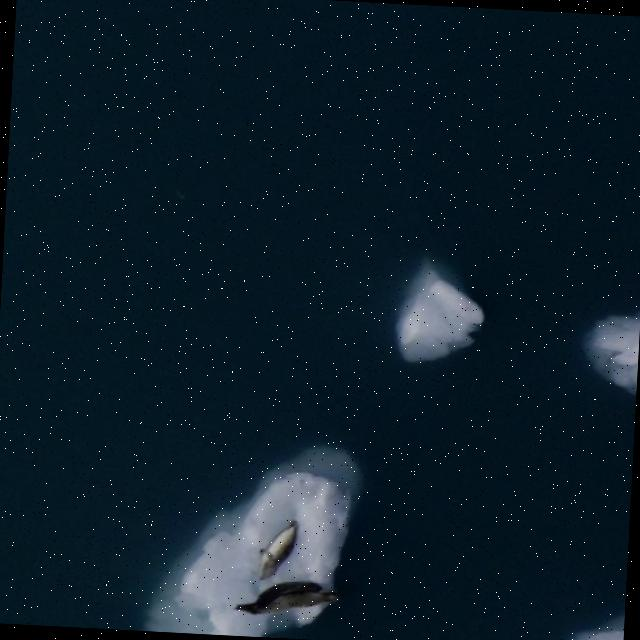seal: (230, 570, 340, 621), (245, 514, 310, 585)
